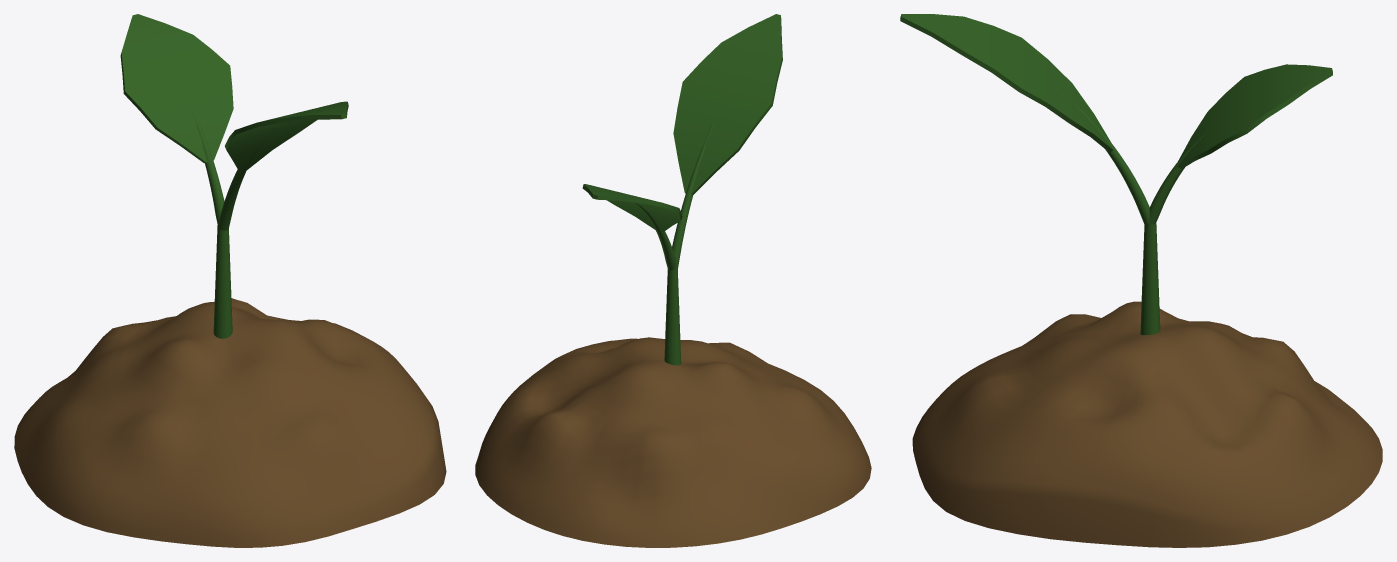
Rendered from TOMATO_first_leaves.fbx.
3 renders of one model, left to right at view 1: azimuth 30°, elevation 25°; view 2: azimuth 150°, elevation 25°; view 3: azimuth 270°, elevation 25°, orthographic. The views are drawn at different scales.
Parts seen in each view (by area): view 1: pCylinder20; view 2: pCylinder20; view 3: pCylinder20.
Boxes of the visible parts, <box> form: pCylinder20: <box>14,14,446,547</box>; pCylinder20: <box>475,14,871,547</box>; pCylinder20: <box>900,14,1382,547</box>.
Bounding box in the file's own units: 0.936 × 1.02 × 1.01.
